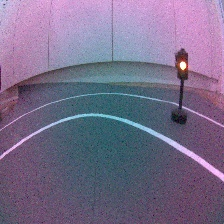amber: (169, 47, 194, 127)
